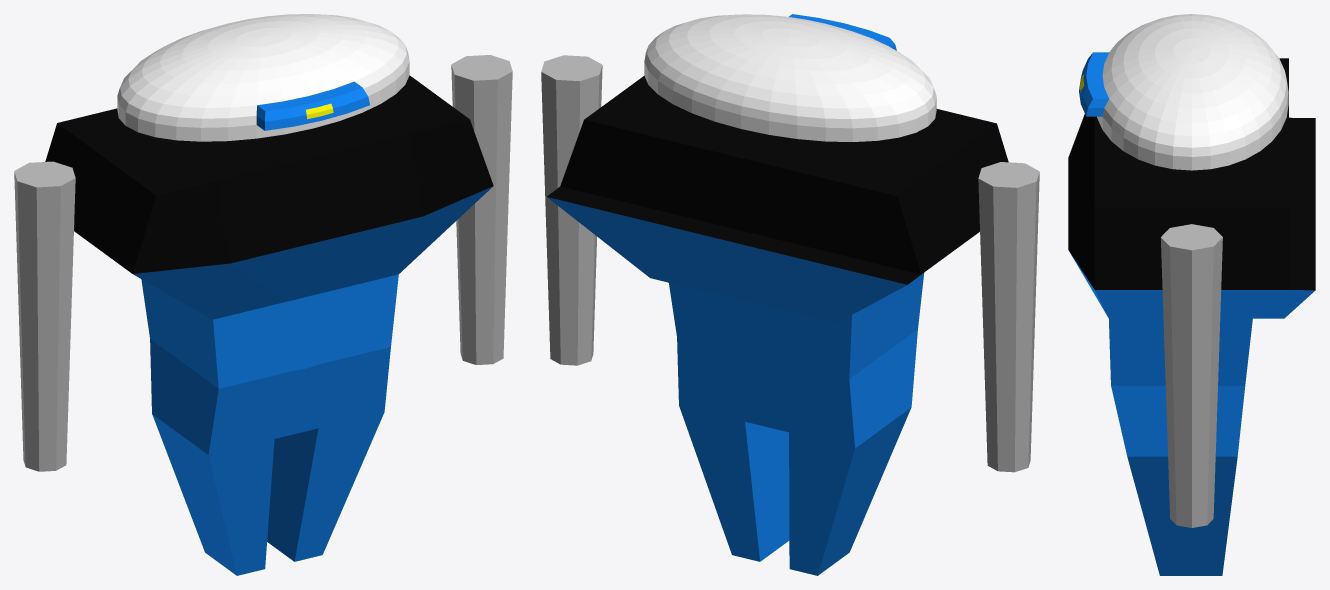
File: Robot.fbx
3 renders of one model, left to right at view 1: azimuth 30°, elevation 25°; view 2: azimuth 150°, elevation 25°; view 3: azimuth 270°, elevation 25°, orthographic. The views are drawn at different scales.
Visible parts, largest first — view 1: Robot; view 2: Robot; view 3: Robot.
Boxes of the visible parts, <box> form: Robot: <box>14,14,512,575</box>; Robot: <box>541,14,1039,575</box>; Robot: <box>1068,14,1315,575</box>.
Size of the model in its own units: 357 by 359 by 159.
